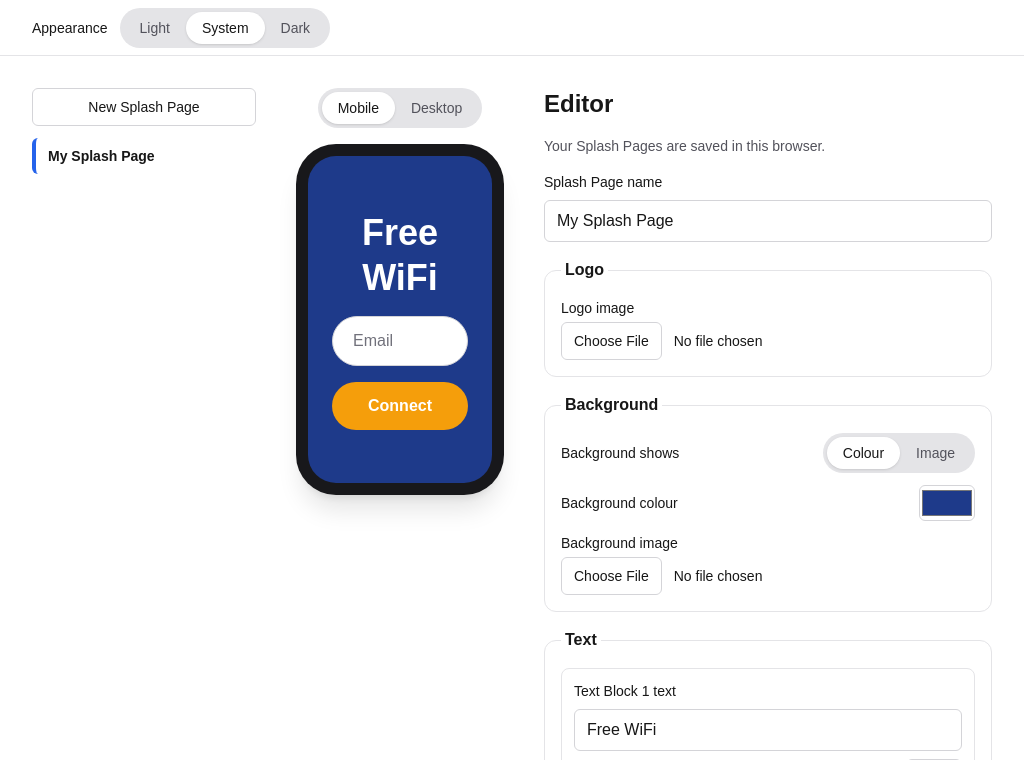
Test: Captivator: the Library › opening another Splash Page shows its name in the Splash Page name field
This screenshot has width=1024, height=760.
Step 1. Click the button "New Splash Page" → (144, 107), box [32,88,256,126]
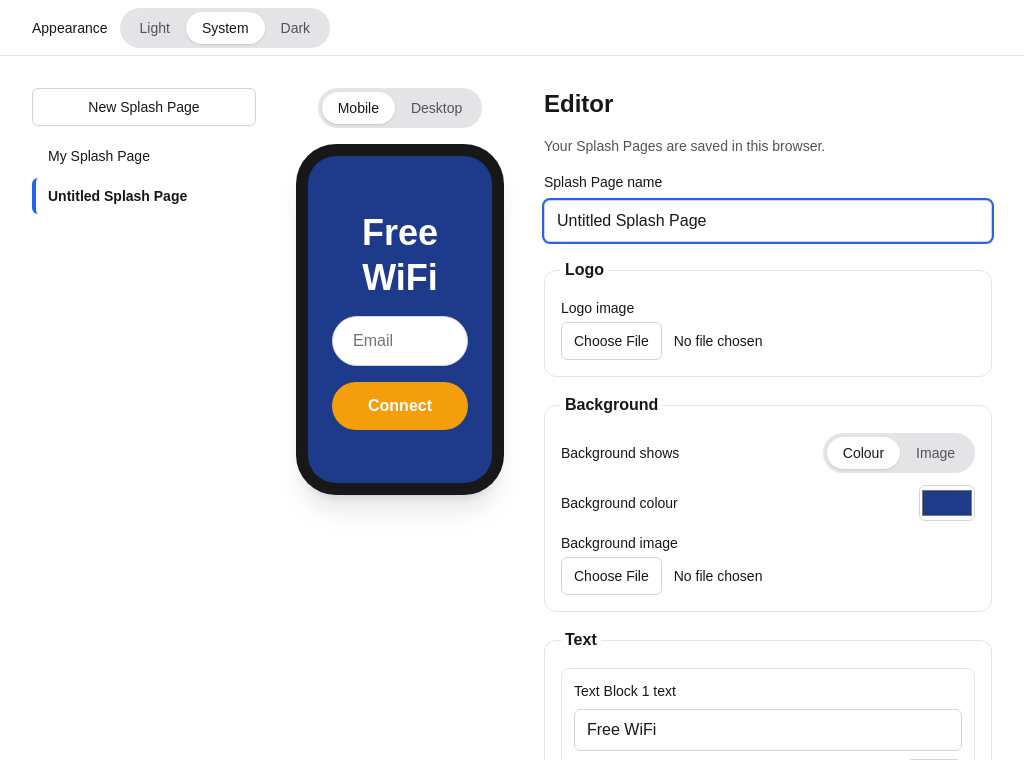
Step 2. Type " Bar" into the field labelled "Splash Page name" → (768, 221), box [544,200,992,242]
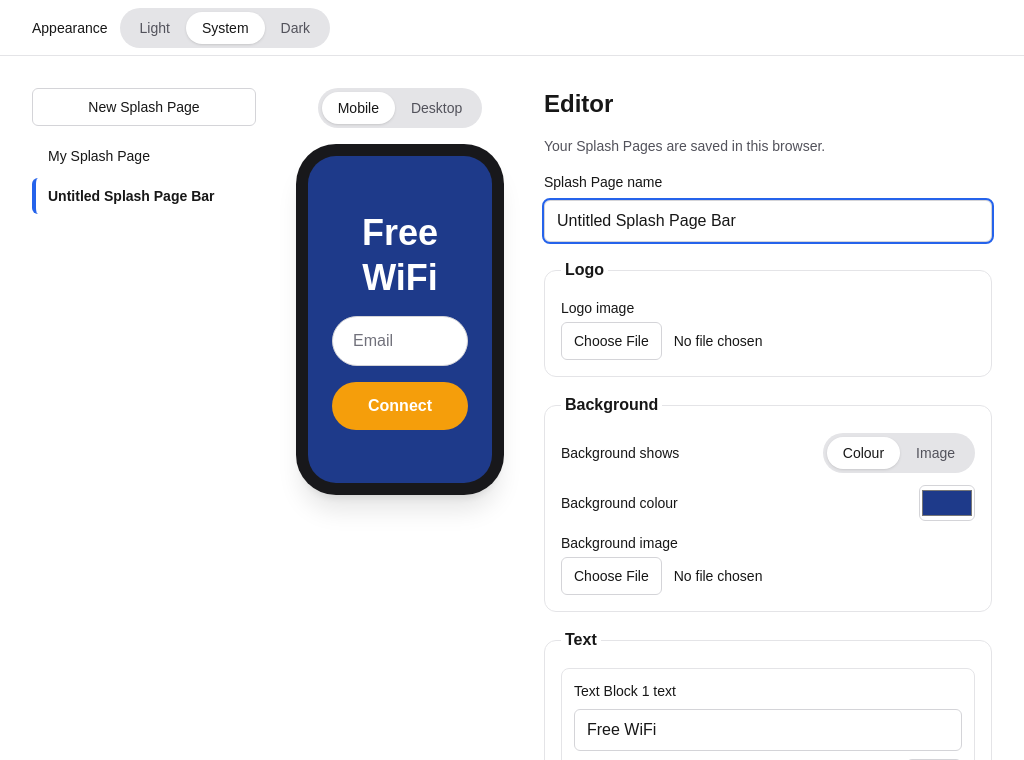
Step 3. Click the button "My Splash Page" → (144, 156), box [32,138,256,174]
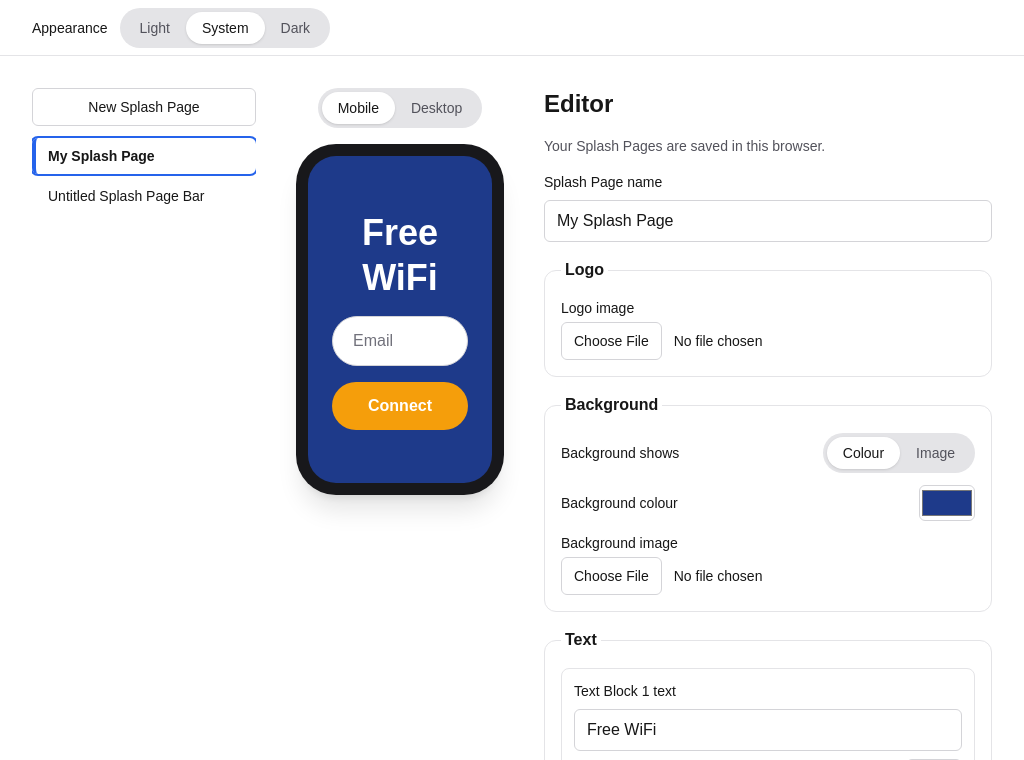
Check: the field labelled "Splash Page name" holds "My Splash Page", box [544,200,992,242]
